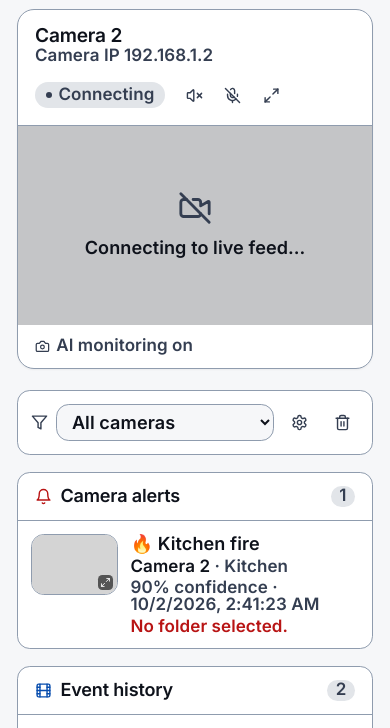
it: camera alerts and event history › shows the missing folder and save failure without a Downloads fallback
This screenshot has width=390, height=728.
(page scrolled)
Step 1. Click the button named "Recording settings" → (300, 422), box [283,405,317,439]
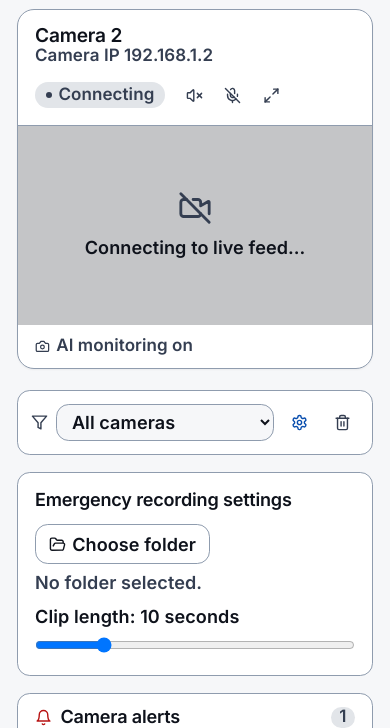
Result: the text "No folder selected." is shown 3 times
